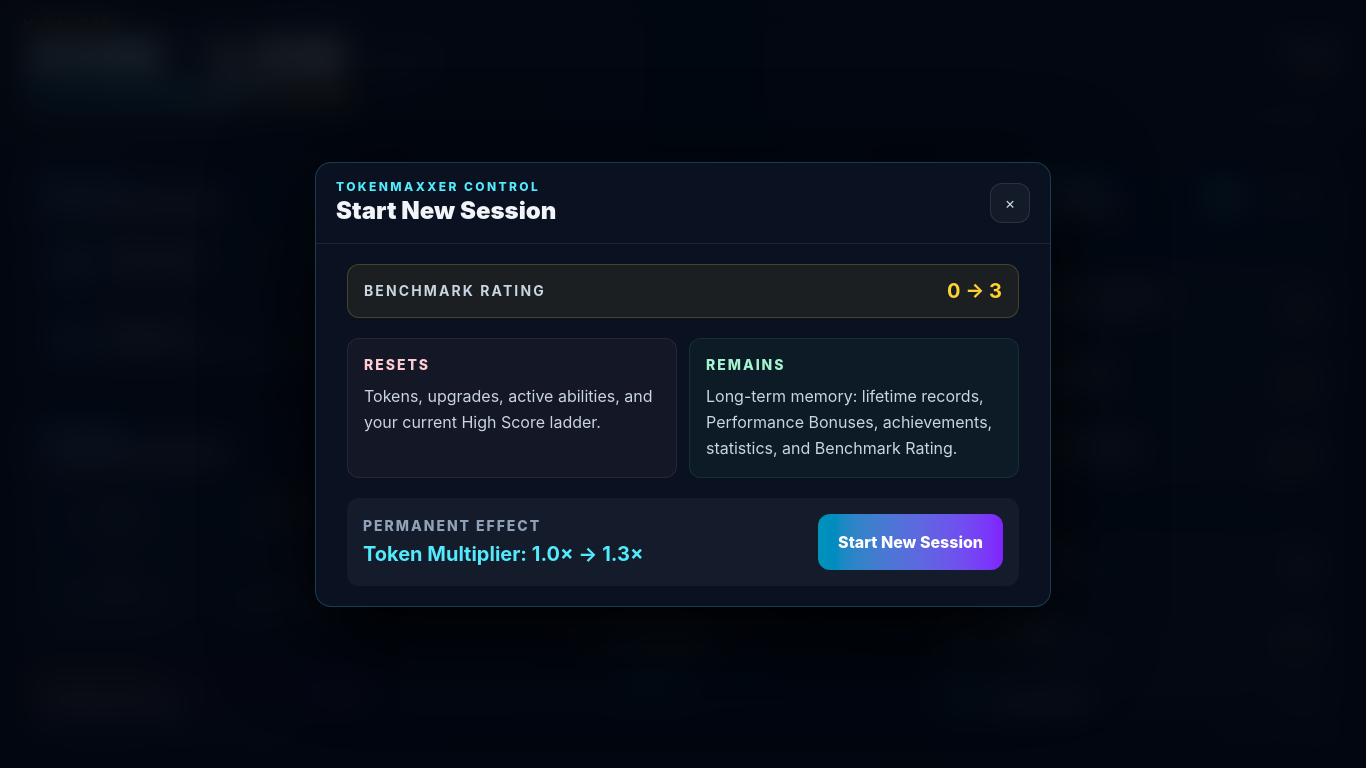
Scenario: Tokenmaxxer dashboard › runs prestige previews in a non-persistent sandbox
Click the button "Start New Session".
click(911, 542)  # box [818,514,1003,570]
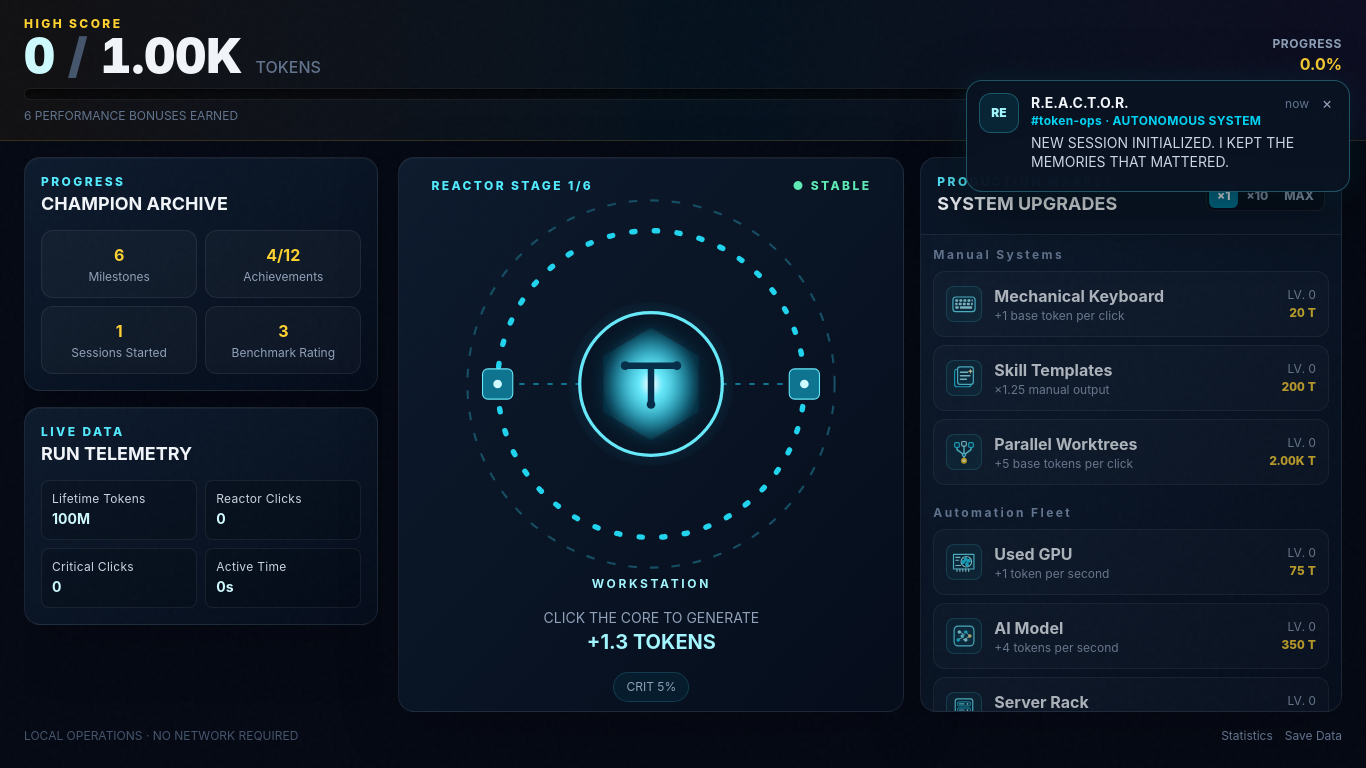
Expected: the button named "3Benchmark Rating" is shown, [205,306,361,374]
Expected: the heading "0 / 1.00K TOKENS" is shown, [24,32,321,80]
Click the button "Save Data".
click(1313, 736)  # box [1285,728,1342,744]
Wait 5000 ms
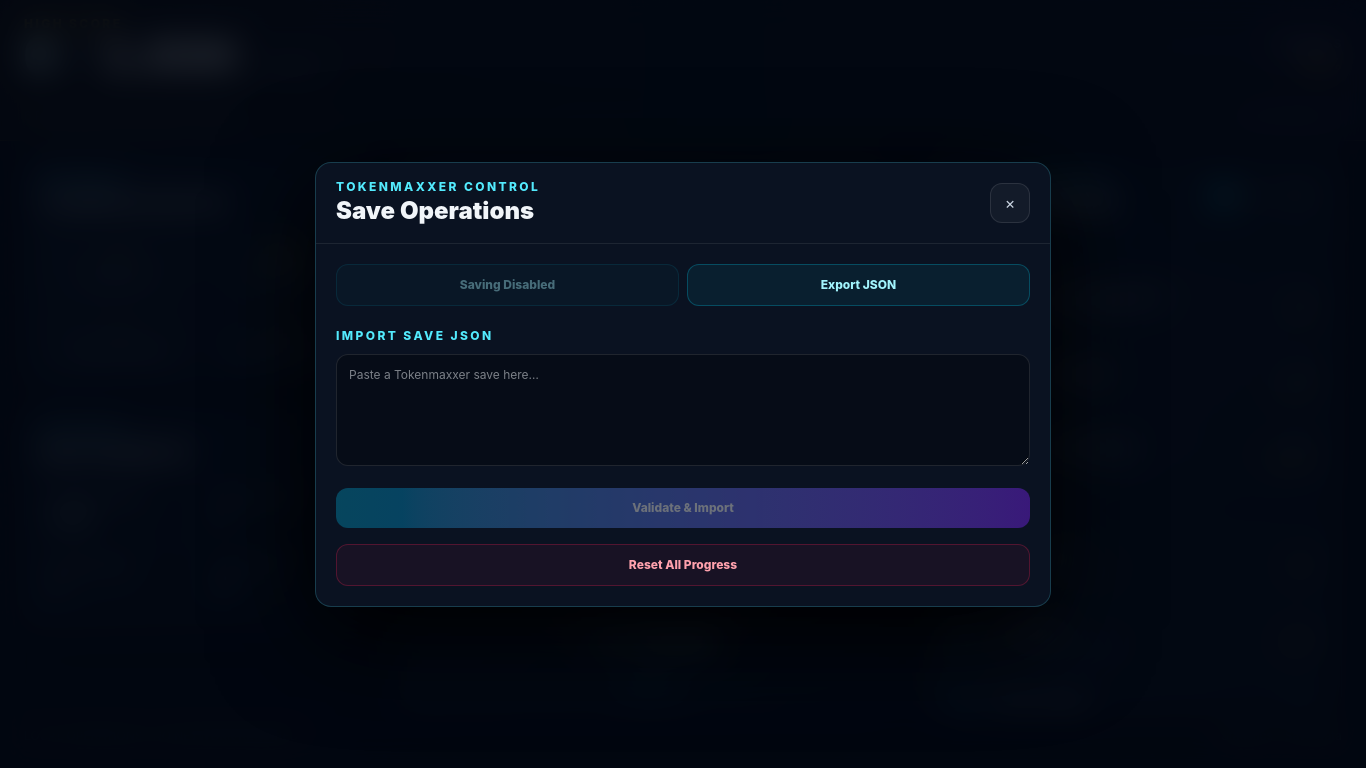
Expected: the button "Saving Disabled" is disabled, [336,264,679,306]
